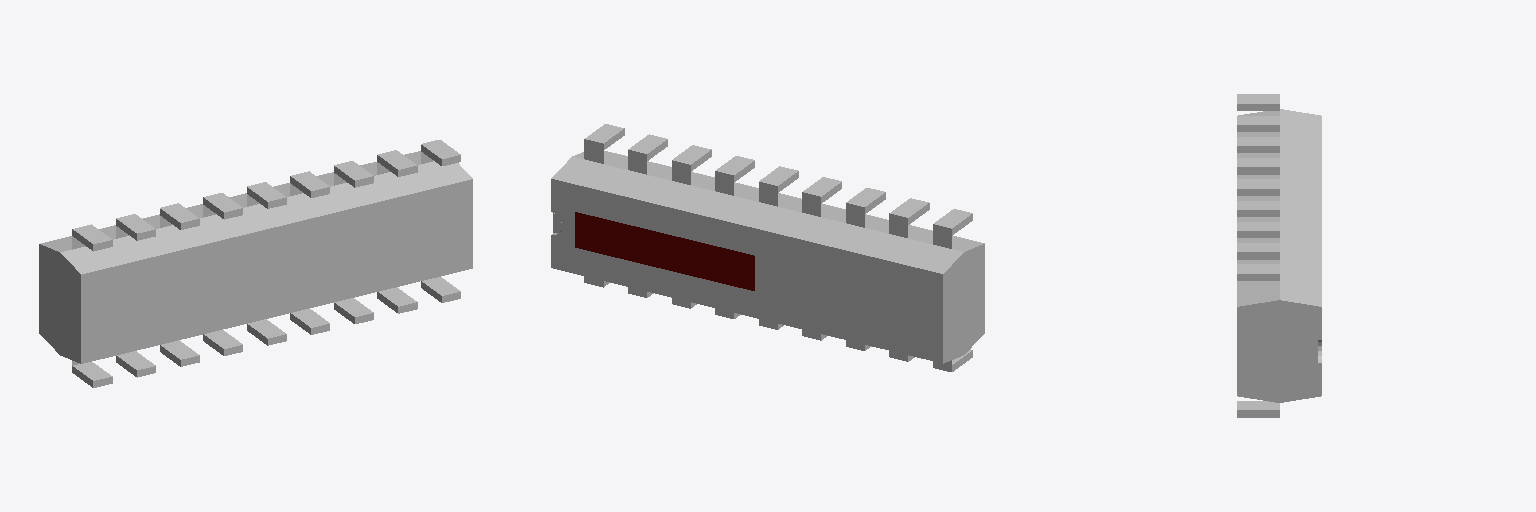
The model's file is DIL18.obj.
The picture shows the model from 3 angles: view 1: azimuth 30°, elevation 25°; view 2: azimuth 150°, elevation 25°; view 3: azimuth 270°, elevation 25°; orthographic projection.
Visible parts, largest first — view 1: ShapeIndexedFaceSet_ShapeIndexedFaceSet.001, ShapeIndexedFaceSet.023_ShapeIndexedFaceSet.024, ShapeIndexedFaceSet.029_ShapeIndexedFaceSet.030, ShapeIndexedFaceSet.036_ShapeIndexedFaceSet.037, ShapeIndexedFaceSet.021_ShapeIndexedFaceSet.022, ShapeIndexedFaceSet.035_ShapeIndexedFaceSet.036, ShapeIndexedFaceSet.033_ShapeIndexedFaceSet.034, ShapeIndexedFaceSet.025_ShapeIndexedFaceSet.026, ShapeIndexedFaceSet.031_ShapeIndexedFaceSet.032, ShapeIndexedFaceSet.027_ShapeIndexedFaceSet.028, ShapeIndexedFaceSet.010_ShapeIndexedFaceSet.011, ShapeIndexedFaceSet.016_ShapeIndexedFaceSet.017 (+7 smaller); view 2: ShapeIndexedFaceSet_ShapeIndexedFaceSet.001, ShapeIndexedFaceSet.038_ShapeIndexedFaceSet, ShapeIndexedFaceSet.031_ShapeIndexedFaceSet.032, ShapeIndexedFaceSet.021_ShapeIndexedFaceSet.022, ShapeIndexedFaceSet.029_ShapeIndexedFaceSet.030, ShapeIndexedFaceSet.035_ShapeIndexedFaceSet.036, ShapeIndexedFaceSet.033_ShapeIndexedFaceSet.034, ShapeIndexedFaceSet.025_ShapeIndexedFaceSet.026, ShapeIndexedFaceSet.036_ShapeIndexedFaceSet.037, ShapeIndexedFaceSet.027_ShapeIndexedFaceSet.028, ShapeIndexedFaceSet.023_ShapeIndexedFaceSet.024; view 3: ShapeIndexedFaceSet_ShapeIndexedFaceSet.001, ShapeIndexedFaceSet.036_ShapeIndexedFaceSet.037, ShapeIndexedFaceSet.035_ShapeIndexedFaceSet.036, ShapeIndexedFaceSet.029_ShapeIndexedFaceSet.030, ShapeIndexedFaceSet.023_ShapeIndexedFaceSet.024, ShapeIndexedFaceSet.021_ShapeIndexedFaceSet.022, ShapeIndexedFaceSet.018_ShapeIndexedFaceSet.019, ShapeIndexedFaceSet.033_ShapeIndexedFaceSet.034, ShapeIndexedFaceSet.031_ShapeIndexedFaceSet.032, ShapeIndexedFaceSet.027_ShapeIndexedFaceSet.028, ShapeIndexedFaceSet.025_ShapeIndexedFaceSet.026.
Part boxes in pixels (x1,y1,x2,y2): ShapeIndexedFaceSet_ShapeIndexedFaceSet.001: (39, 151, 472, 363); ShapeIndexedFaceSet.023_ShapeIndexedFaceSet.024: (377, 150, 417, 176); ShapeIndexedFaceSet.029_ShapeIndexedFaceSet.030: (72, 224, 112, 251); ShapeIndexedFaceSet.036_ShapeIndexedFaceSet.037: (247, 182, 286, 208); ShapeIndexedFaceSet.021_ShapeIndexedFaceSet.022: (421, 140, 460, 165); ShapeIndexedFaceSet.035_ShapeIndexedFaceSet.036: (203, 193, 242, 219); ShapeIndexedFaceSet.033_ShapeIndexedFaceSet.034: (160, 203, 199, 229); ShapeIndexedFaceSet.025_ShapeIndexedFaceSet.026: (334, 161, 373, 187); ShapeIndexedFaceSet.031_ShapeIndexedFaceSet.032: (116, 214, 155, 240); ShapeIndexedFaceSet.027_ShapeIndexedFaceSet.028: (290, 171, 329, 197); ShapeIndexedFaceSet.010_ShapeIndexedFaceSet.011: (72, 362, 112, 387); ShapeIndexedFaceSet.016_ShapeIndexedFaceSet.017: (377, 287, 417, 313); ShapeIndexedFaceSet_ShapeIndexedFaceSet.001: (551, 151, 984, 363); ShapeIndexedFaceSet.038_ShapeIndexedFaceSet: (575, 212, 754, 290); ShapeIndexedFaceSet.031_ShapeIndexedFaceSet.032: (889, 198, 929, 224); ShapeIndexedFaceSet.021_ShapeIndexedFaceSet.022: (584, 124, 624, 150); ShapeIndexedFaceSet.029_ShapeIndexedFaceSet.030: (933, 209, 972, 235); ShapeIndexedFaceSet.035_ShapeIndexedFaceSet.036: (802, 177, 841, 203); ShapeIndexedFaceSet.033_ShapeIndexedFaceSet.034: (846, 188, 885, 214); ShapeIndexedFaceSet.025_ShapeIndexedFaceSet.026: (672, 145, 711, 171); ShapeIndexedFaceSet.036_ShapeIndexedFaceSet.037: (759, 166, 798, 192); ShapeIndexedFaceSet.027_ShapeIndexedFaceSet.028: (715, 156, 754, 182); ShapeIndexedFaceSet.023_ShapeIndexedFaceSet.024: (628, 134, 667, 160); ShapeIndexedFaceSet_ShapeIndexedFaceSet.001: (1237, 109, 1321, 402); ShapeIndexedFaceSet.036_ShapeIndexedFaceSet.037: (1237, 179, 1279, 195); ShapeIndexedFaceSet.035_ShapeIndexedFaceSet.036: (1237, 158, 1279, 174); ShapeIndexedFaceSet.029_ShapeIndexedFaceSet.030: (1237, 94, 1279, 110); ShapeIndexedFaceSet.023_ShapeIndexedFaceSet.024: (1237, 243, 1279, 259); ShapeIndexedFaceSet.021_ShapeIndexedFaceSet.022: (1237, 264, 1279, 280); ShapeIndexedFaceSet.018_ShapeIndexedFaceSet.019: (1237, 401, 1279, 417); ShapeIndexedFaceSet.033_ShapeIndexedFaceSet.034: (1237, 137, 1279, 152); ShapeIndexedFaceSet.031_ShapeIndexedFaceSet.032: (1237, 116, 1279, 131); ShapeIndexedFaceSet.027_ShapeIndexedFaceSet.028: (1237, 201, 1279, 216); ShapeIndexedFaceSet.025_ShapeIndexedFaceSet.026: (1237, 222, 1279, 237).
Size of the model in its own units: 22.86 by 8.02 by 4.3.